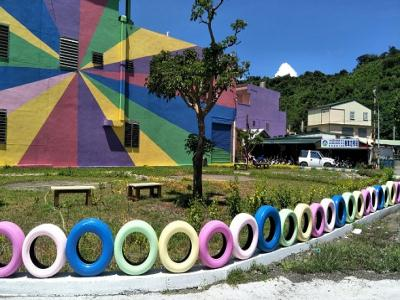tire: (65, 214, 115, 278), (20, 220, 70, 279), (112, 218, 159, 276), (157, 219, 201, 275), (196, 219, 235, 271), (228, 211, 261, 261), (254, 204, 282, 253), (291, 200, 314, 244), (277, 207, 300, 248), (309, 202, 326, 238), (320, 197, 337, 233), (340, 191, 356, 224)
